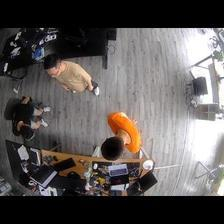normal: (42, 55, 101, 97), (100, 111, 143, 162), (11, 96, 50, 142)
